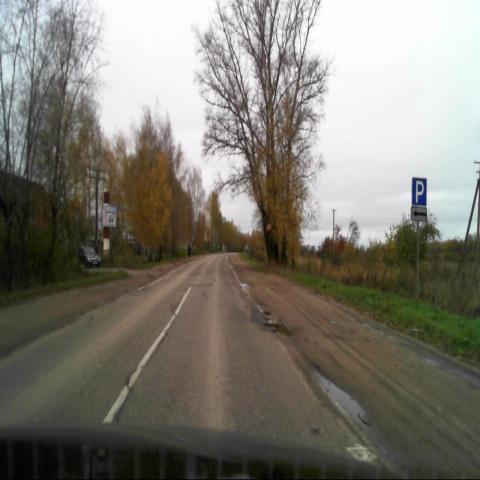8_3_2: (411, 208, 427, 222)
